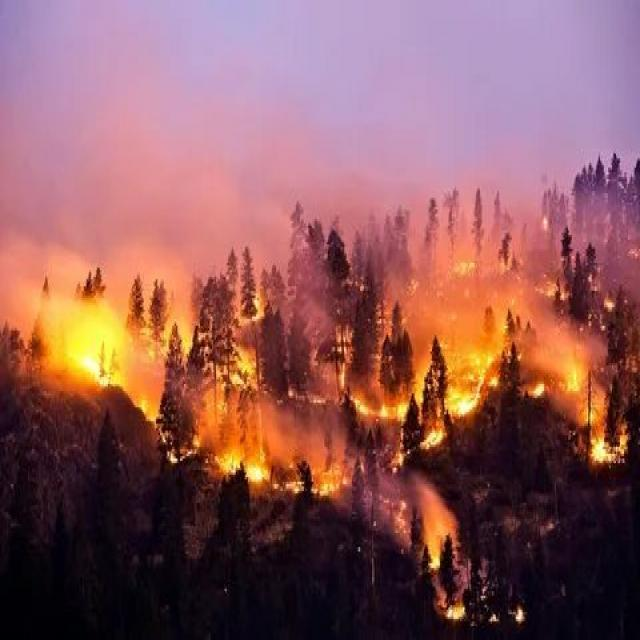Fire: (70, 314, 636, 548)
